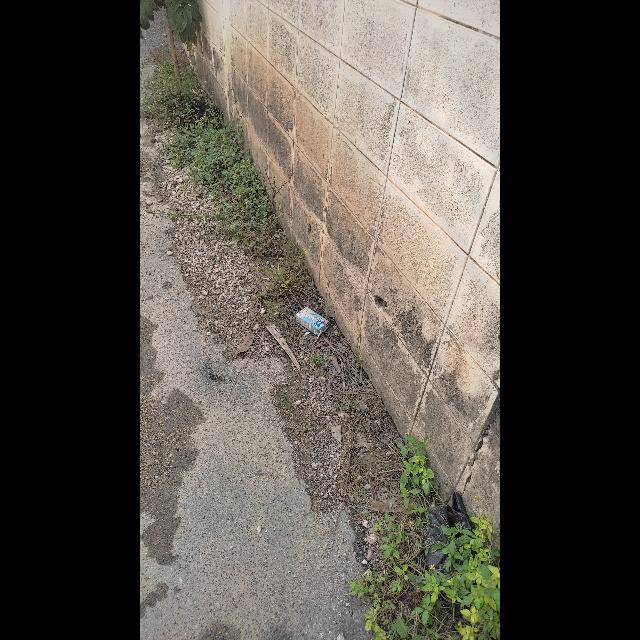plastic_box: (289, 306, 335, 336)
